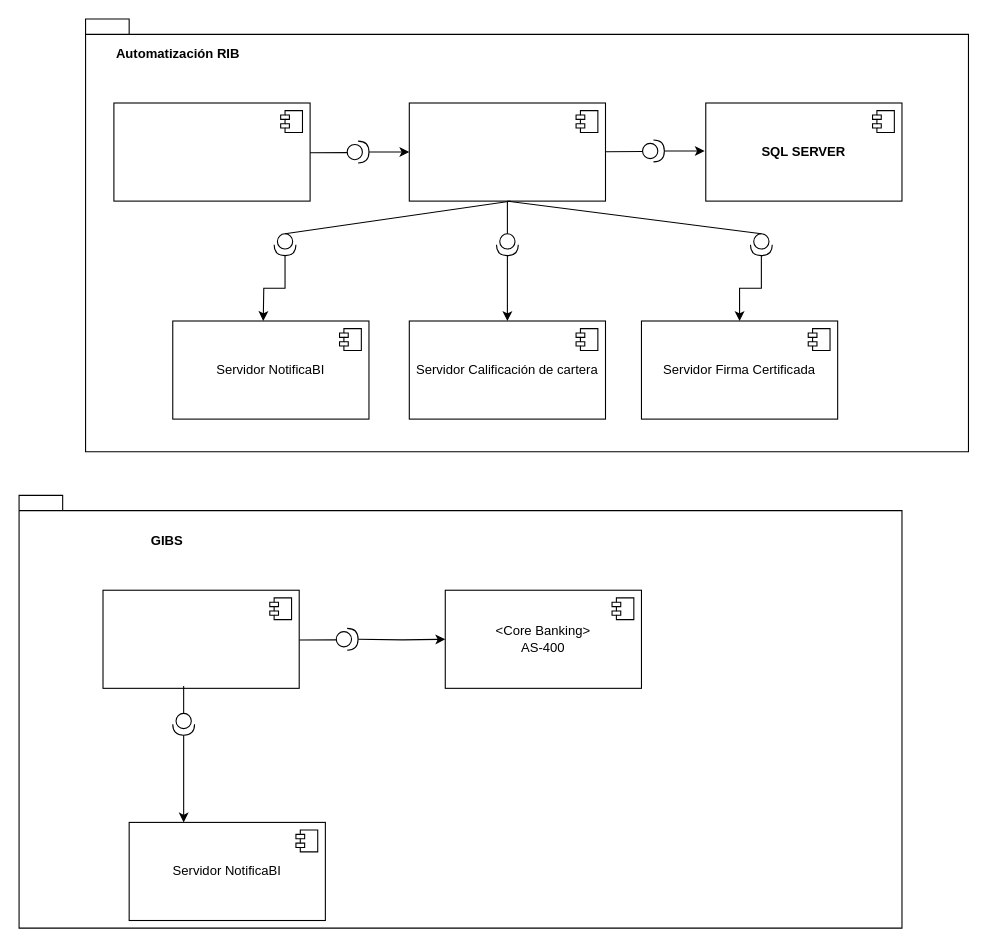
The diagram is 988 pixels wide and 947 high, and some of its shapes have lost their labels. Each missing label, with the centre of its shape:
"EIBS" belongs at point (200, 638).
"Frontend Automatización" belongs at point (211, 151).
"RIB Webservices" belongs at point (506, 151).
